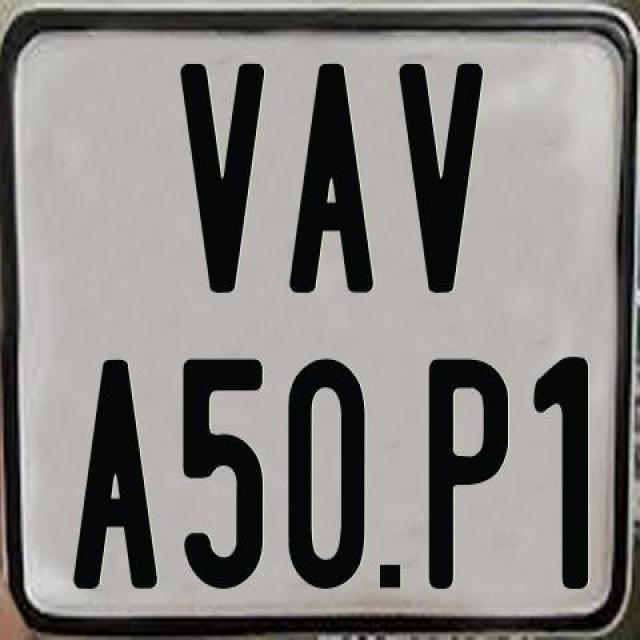0: (286, 358, 366, 598)
1: (532, 357, 588, 596)
5: (182, 358, 270, 596)
A: (74, 357, 162, 586), (286, 62, 370, 301)
P: (428, 358, 511, 594)
V: (398, 64, 486, 302), (178, 64, 262, 296)
